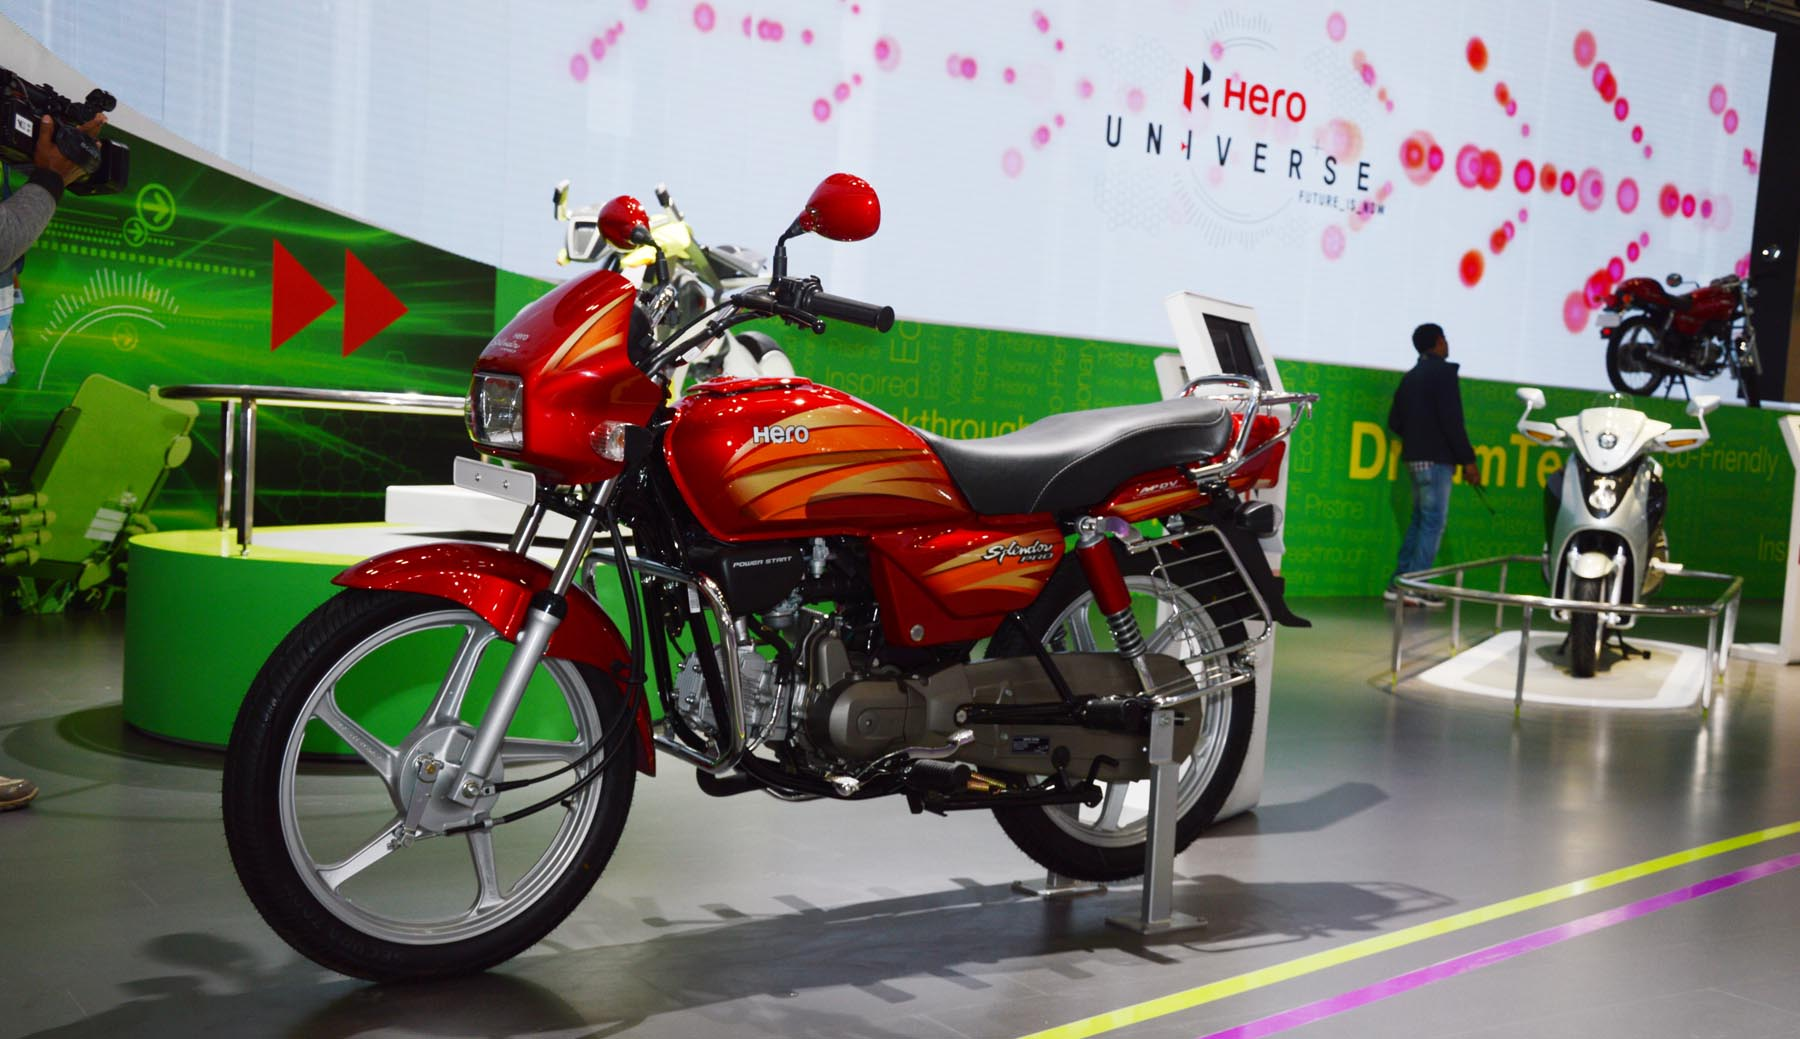motorbike: (218, 233, 1301, 982)
